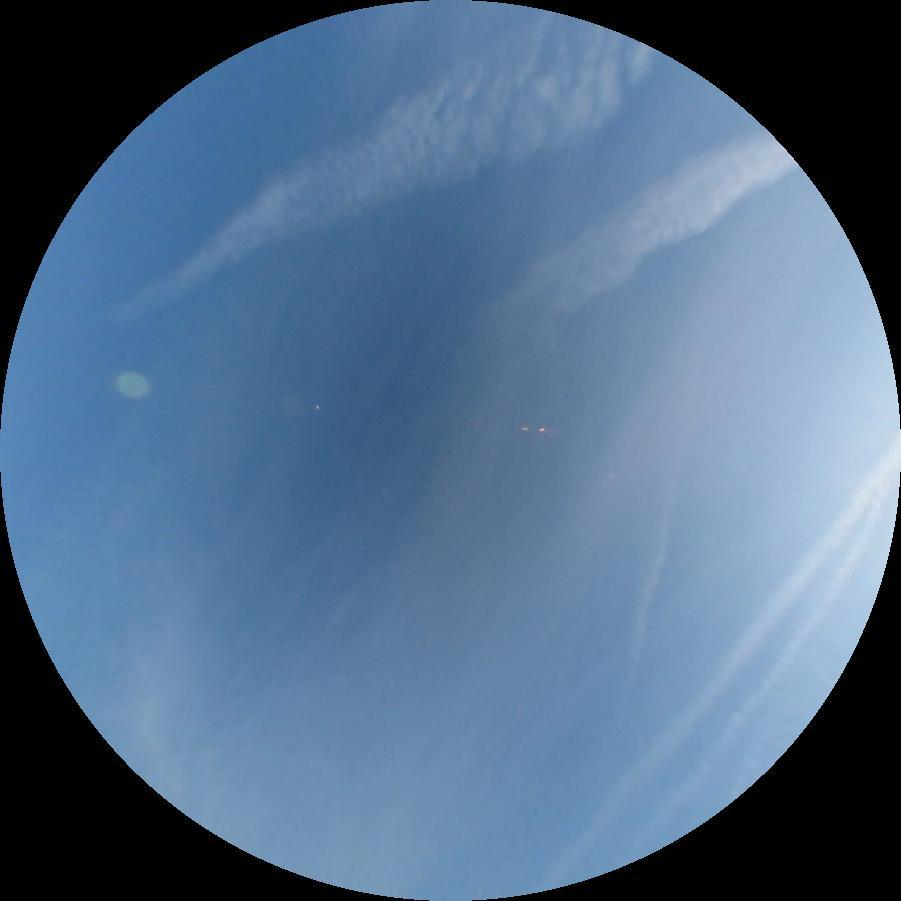contrail veryold: (539, 436, 901, 900), (441, 110, 804, 384)
